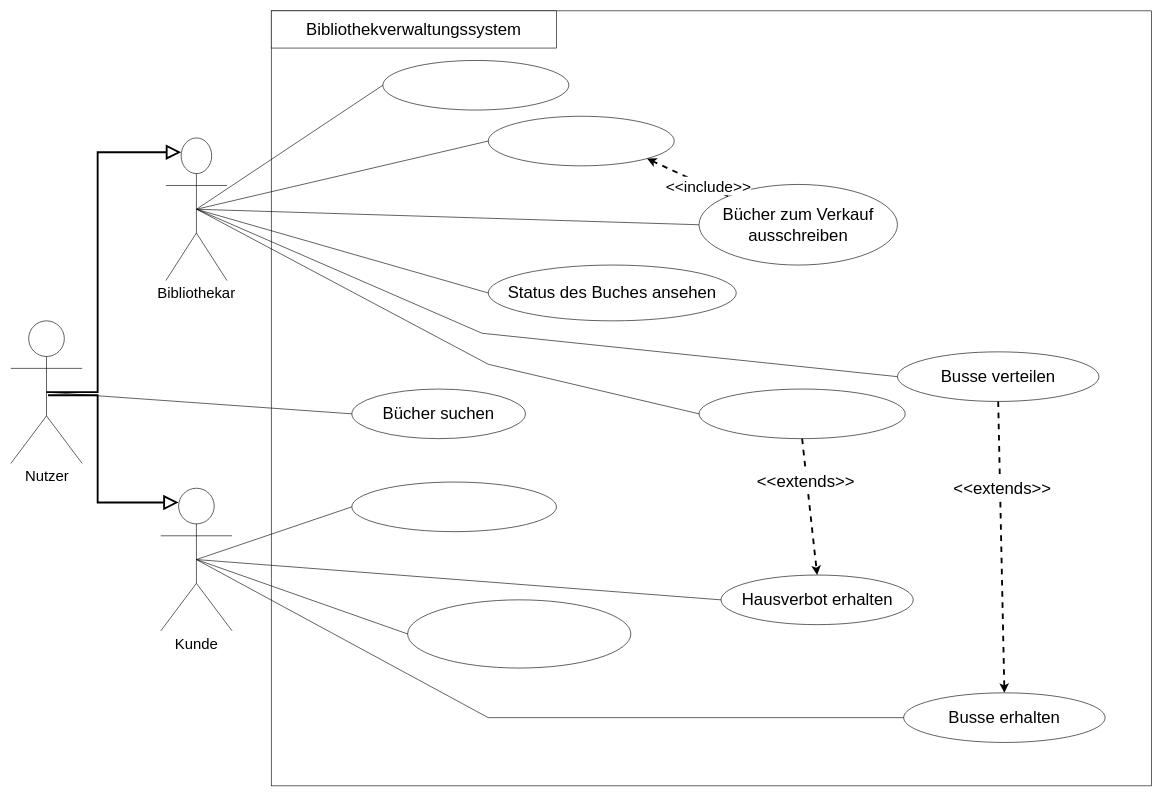
The diagram is 1163 pixels wide and 797 high, and some of its shapes have lost their labels. The centre of each missing label's shape, as x and y in pixels:
Bücher ausleihen: [453,506]
Bücher löschen: [581,141]
Bücherbewertung abgeben: [519,633]
Hausverbot verteilen: [801,413]
Neue Bücher eintragen: [475,85]
